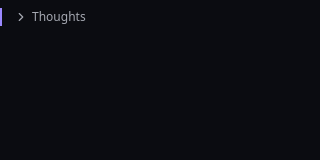
Test: collapsed by default and expands on click
Expected: the text "step one" is not shown
Click the button "Thoughts" at {"x": 50, "y": 17}, box [14,8,86,26]
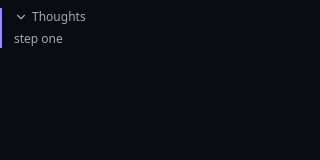
Expected: the text "step one" is shown, [14,30,63,47]
